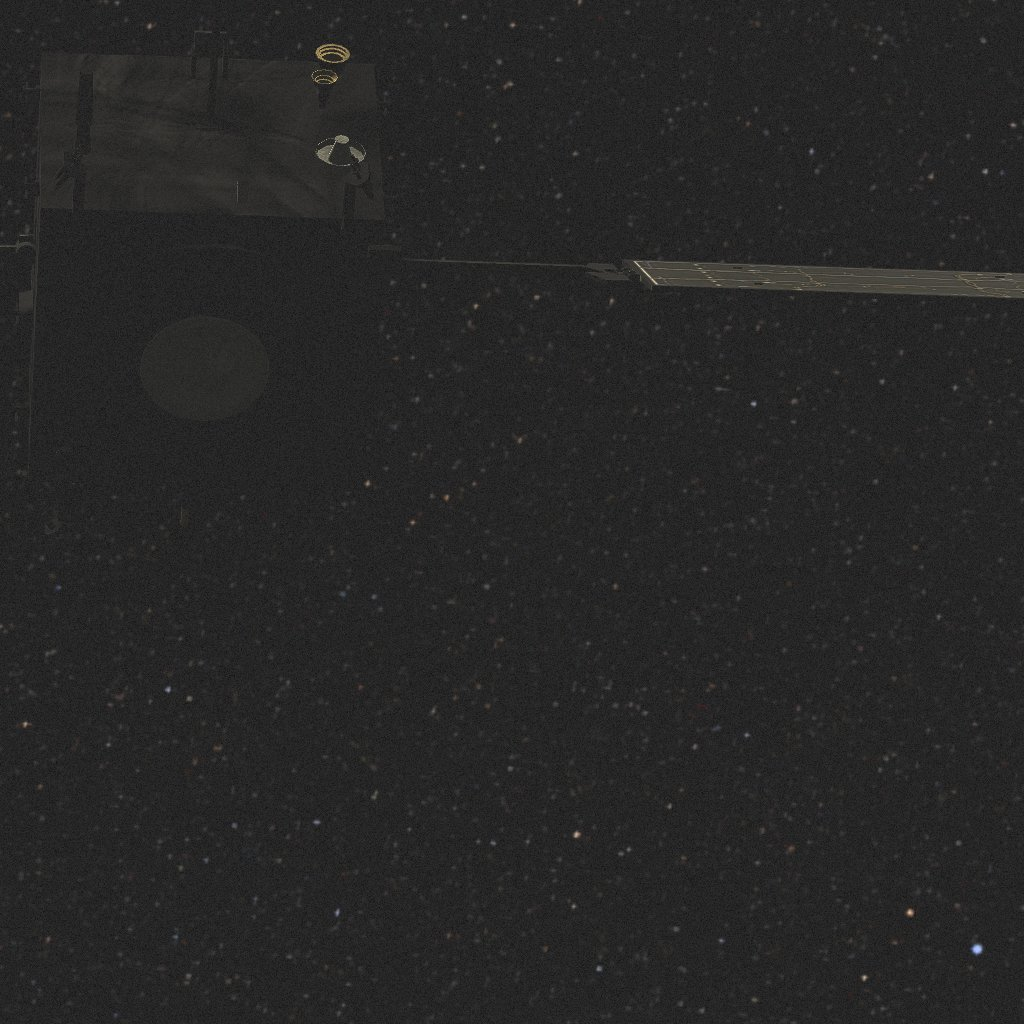smart_1: (0, 0, 1024, 553)
